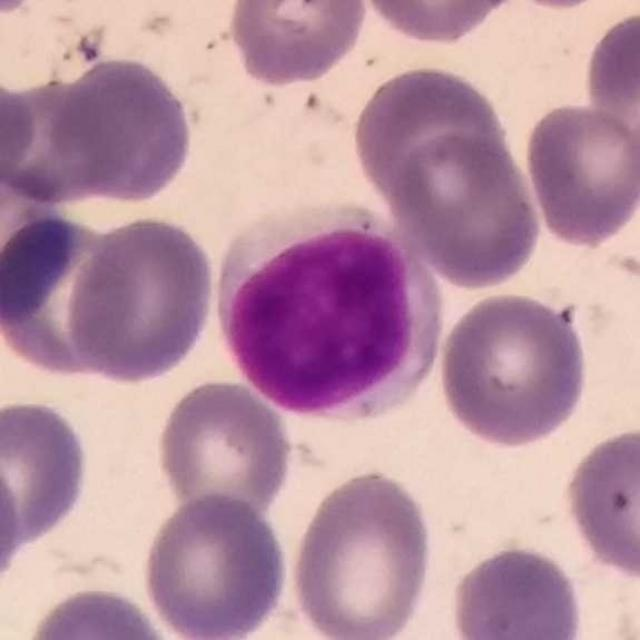Lymphocyte: (212, 198, 443, 428)
RBC: (64, 212, 220, 386), (286, 465, 439, 640), (347, 61, 514, 218), (434, 287, 593, 451), (388, 128, 546, 292), (0, 204, 140, 384), (137, 489, 293, 640), (48, 52, 198, 206), (153, 376, 296, 522), (520, 98, 640, 251), (0, 395, 92, 553), (446, 540, 588, 640), (0, 146, 77, 329), (558, 422, 640, 583), (224, 0, 370, 88), (20, 583, 175, 640), (355, 0, 518, 48), (581, 5, 640, 130), (0, 64, 39, 206), (0, 446, 24, 600), (500, 0, 621, 12), (0, 0, 48, 20)
